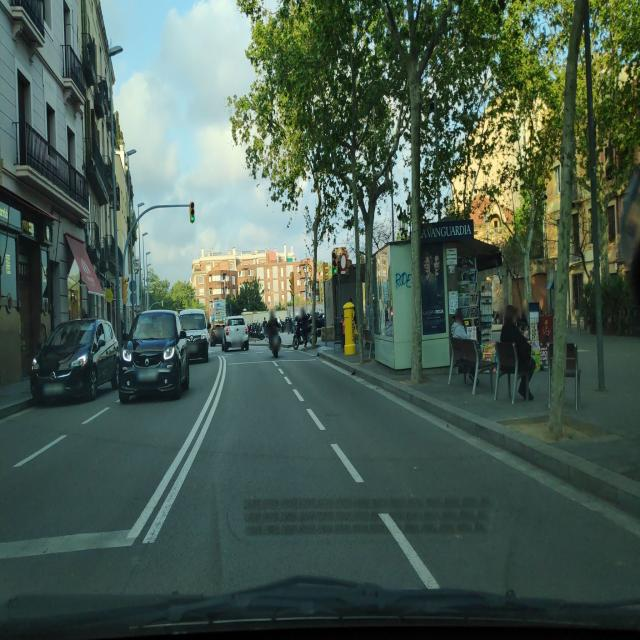bike: (292, 322, 318, 349), (266, 332, 282, 357)
car: (29, 316, 120, 406), (118, 308, 190, 404), (179, 308, 210, 364), (222, 316, 250, 352), (210, 320, 226, 346)
